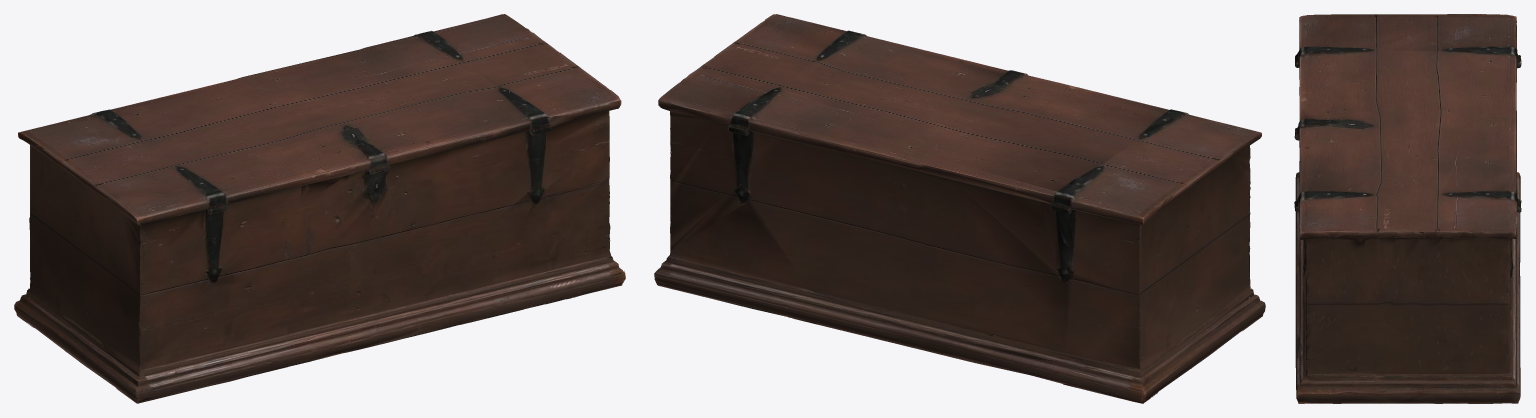
Rendered from storage-chest-interior-lod.glb.
3 renders of one model, left to right at view 1: azimuth 30°, elevation 25°; view 2: azimuth 150°, elevation 25°; view 3: azimuth 270°, elevation 25°, orthographic. The views are drawn at different scales.
Visible parts, largest first — view 1: Mesh_0; view 2: Mesh_0; view 3: Mesh_0.
Boxes of the visible parts, x1,y1,x2,y2 form: Mesh_0: (14, 14, 625, 403); Mesh_0: (654, 14, 1265, 403); Mesh_0: (1294, 14, 1521, 403).
Bounding box in the file's own units: 1.9 × 0.701 × 0.8291.
1 material, 1 textured.
